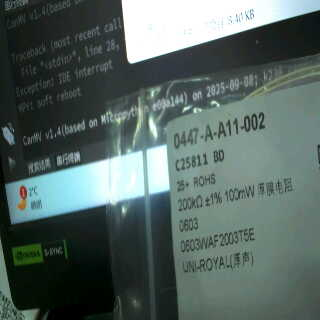200kR: (174, 190, 203, 217)
